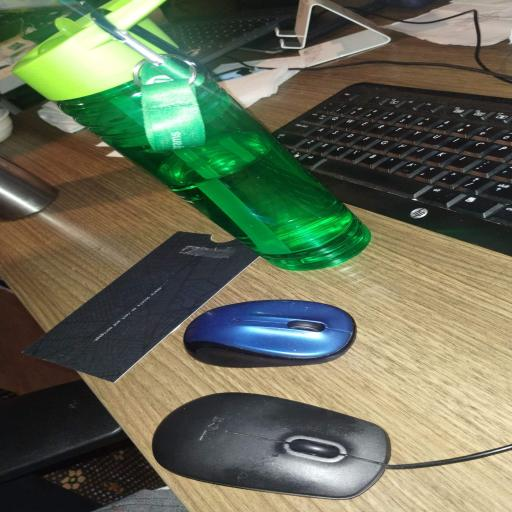mouse: (153, 393, 390, 499), (184, 301, 356, 367)
waterbottle: (15, 17, 370, 269)
